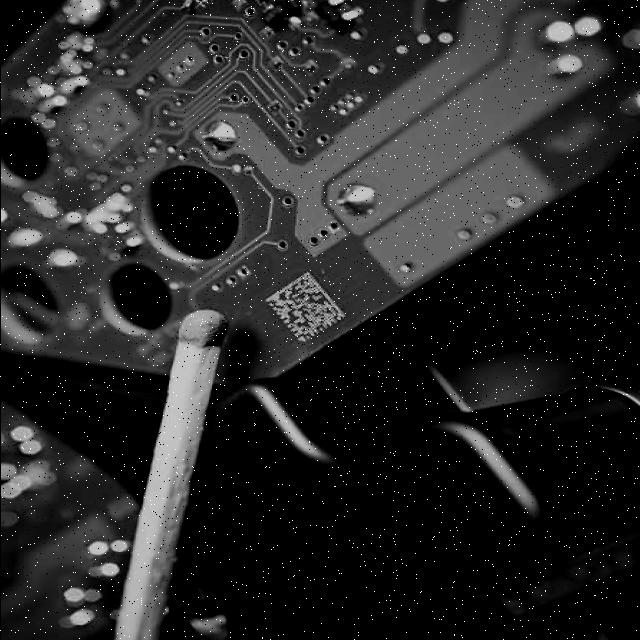datamatrix: (254, 270, 357, 344)
